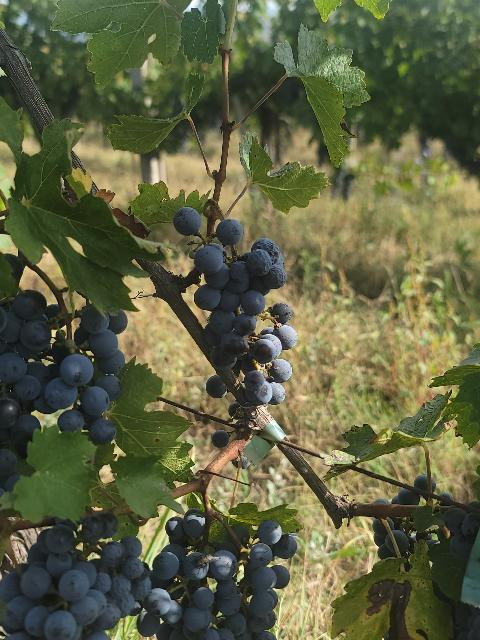grapes: (136, 508, 292, 640), (194, 219, 298, 405), (0, 512, 150, 640), (35, 305, 128, 444), (0, 290, 51, 478)
